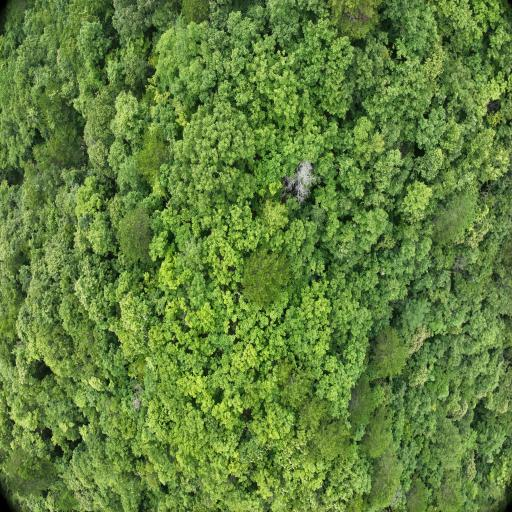dead-tree: (286, 168, 312, 195)
